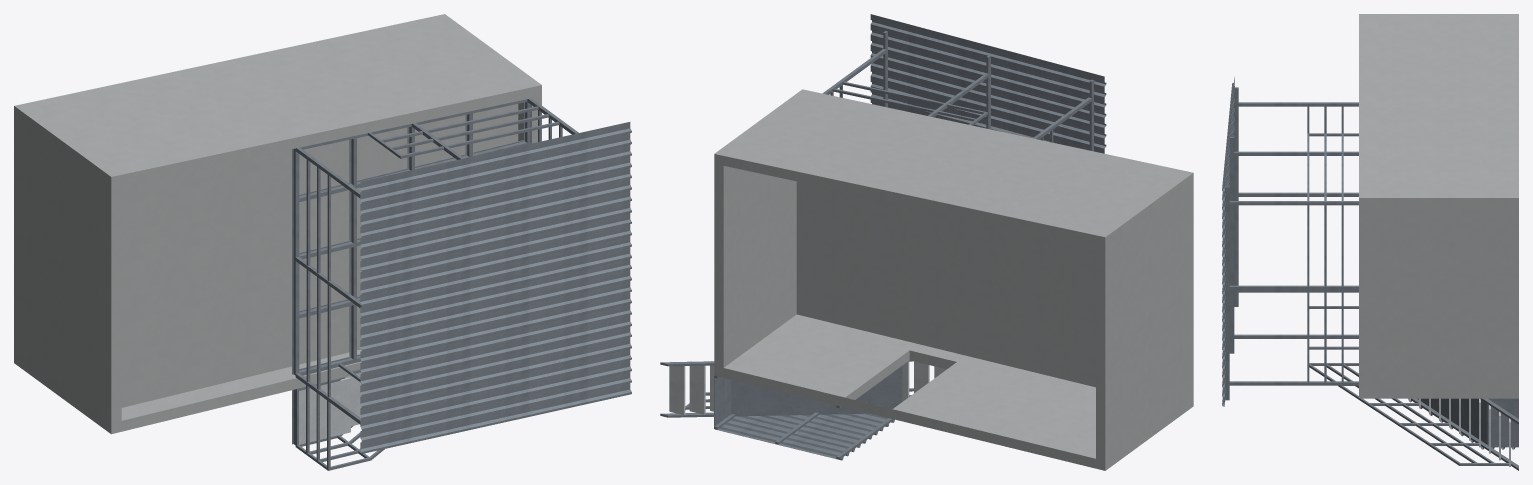
The model's file is escalera-butano-y-altillo-mwsuyq54.glb.
The picture shows the model from 3 angles, left to right: view 1: azimuth 30°, elevation 25°; view 2: azimuth 150°, elevation 25°; view 3: azimuth 270°, elevation 25°; orthographic projection. The views are drawn at different scales.
Parts seen in each view (by area): view 1: edificio, chapa_cubierta, techo, rellno, barandilla_y_estructura, ipn_(4), ipn_(3), barandilla_cubierta_(11), ipn_(8), barandilla_cubierta_(9), barandilla_cubierta_(10), ipn_(9) (+3 smaller); view 2: edificio, techo, chapa_cubierta, chapa_(1)_(1), Body116, escalon, escalon_(1), Body117, barandilla_y_estructura, barandilla_cubierta_(6), barandilla_cubierta_(7); view 3: edificio, barandilla_y_estructura, chapa_cubierta, Body116, Body117, transversal_cubierta_(1), transversal_cubierta, transversal_cubierta_(2), poste_cubierta_(4), poste_cubierta_(3), poste_cubierta, poste_cubierta_(6) (+7 smaller).
Part boxes in pixels (bbox=[...]): edificio: bbox=[14, 14, 541, 434]; chapa_cubierta: bbox=[360, 122, 631, 453]; techo: bbox=[121, 104, 518, 407]; rellno: bbox=[299, 377, 350, 444]; barandilla_y_estructura: bbox=[295, 377, 384, 470]; ipn_(4): bbox=[292, 148, 299, 445]; ipn_(3): bbox=[349, 135, 356, 362]; barandilla_cubierta_(11): bbox=[306, 159, 310, 381]; ipn_(8): bbox=[299, 140, 528, 201]; barandilla_cubierta_(9): bbox=[327, 175, 330, 397]; barandilla_cubierta_(10): bbox=[317, 167, 320, 389]; ipn_(9): bbox=[300, 99, 527, 149]; edificio: bbox=[714, 89, 1193, 470]; techo: bbox=[796, 181, 1095, 387]; chapa_cubierta: bbox=[870, 14, 1106, 153]; chapa_(1)_(1): bbox=[715, 413, 894, 460]; Body116: bbox=[731, 366, 901, 416]; escalon: bbox=[669, 361, 685, 414]; escalon_(1): bbox=[689, 361, 705, 414]; Body117: bbox=[714, 377, 731, 428]; barandilla_y_estructura: bbox=[660, 360, 913, 417]; barandilla_cubierta_(6): bbox=[842, 81, 987, 114]; barandilla_cubierta_(7): bbox=[833, 88, 977, 121]; edificio: bbox=[1359, 14, 1518, 398]; barandilla_y_estructura: bbox=[1309, 346, 1518, 470]; chapa_cubierta: bbox=[1222, 77, 1234, 406]; Body116: bbox=[1417, 398, 1487, 444]; Body117: bbox=[1487, 400, 1518, 447]; transversal_cubierta_(1): bbox=[1229, 137, 1234, 353]; transversal_cubierta: bbox=[1225, 186, 1229, 400]; transversal_cubierta_(2): bbox=[1234, 87, 1238, 306]; poste_cubierta_(4): bbox=[1229, 201, 1358, 205]; poste_cubierta_(3): bbox=[1229, 381, 1358, 385]; poste_cubierta: bbox=[1229, 285, 1358, 289]; poste_cubierta_(6): bbox=[1234, 151, 1358, 155].
Size of the model in its own units: 8.53 by 5.45 by 5.44.
4 materials, 4 textured.
